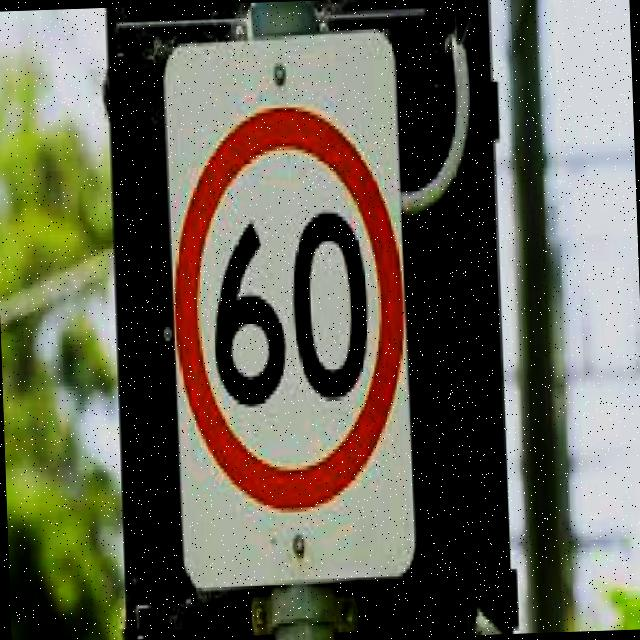Ograniczenie predkosci do 60: (174, 108, 410, 500)
